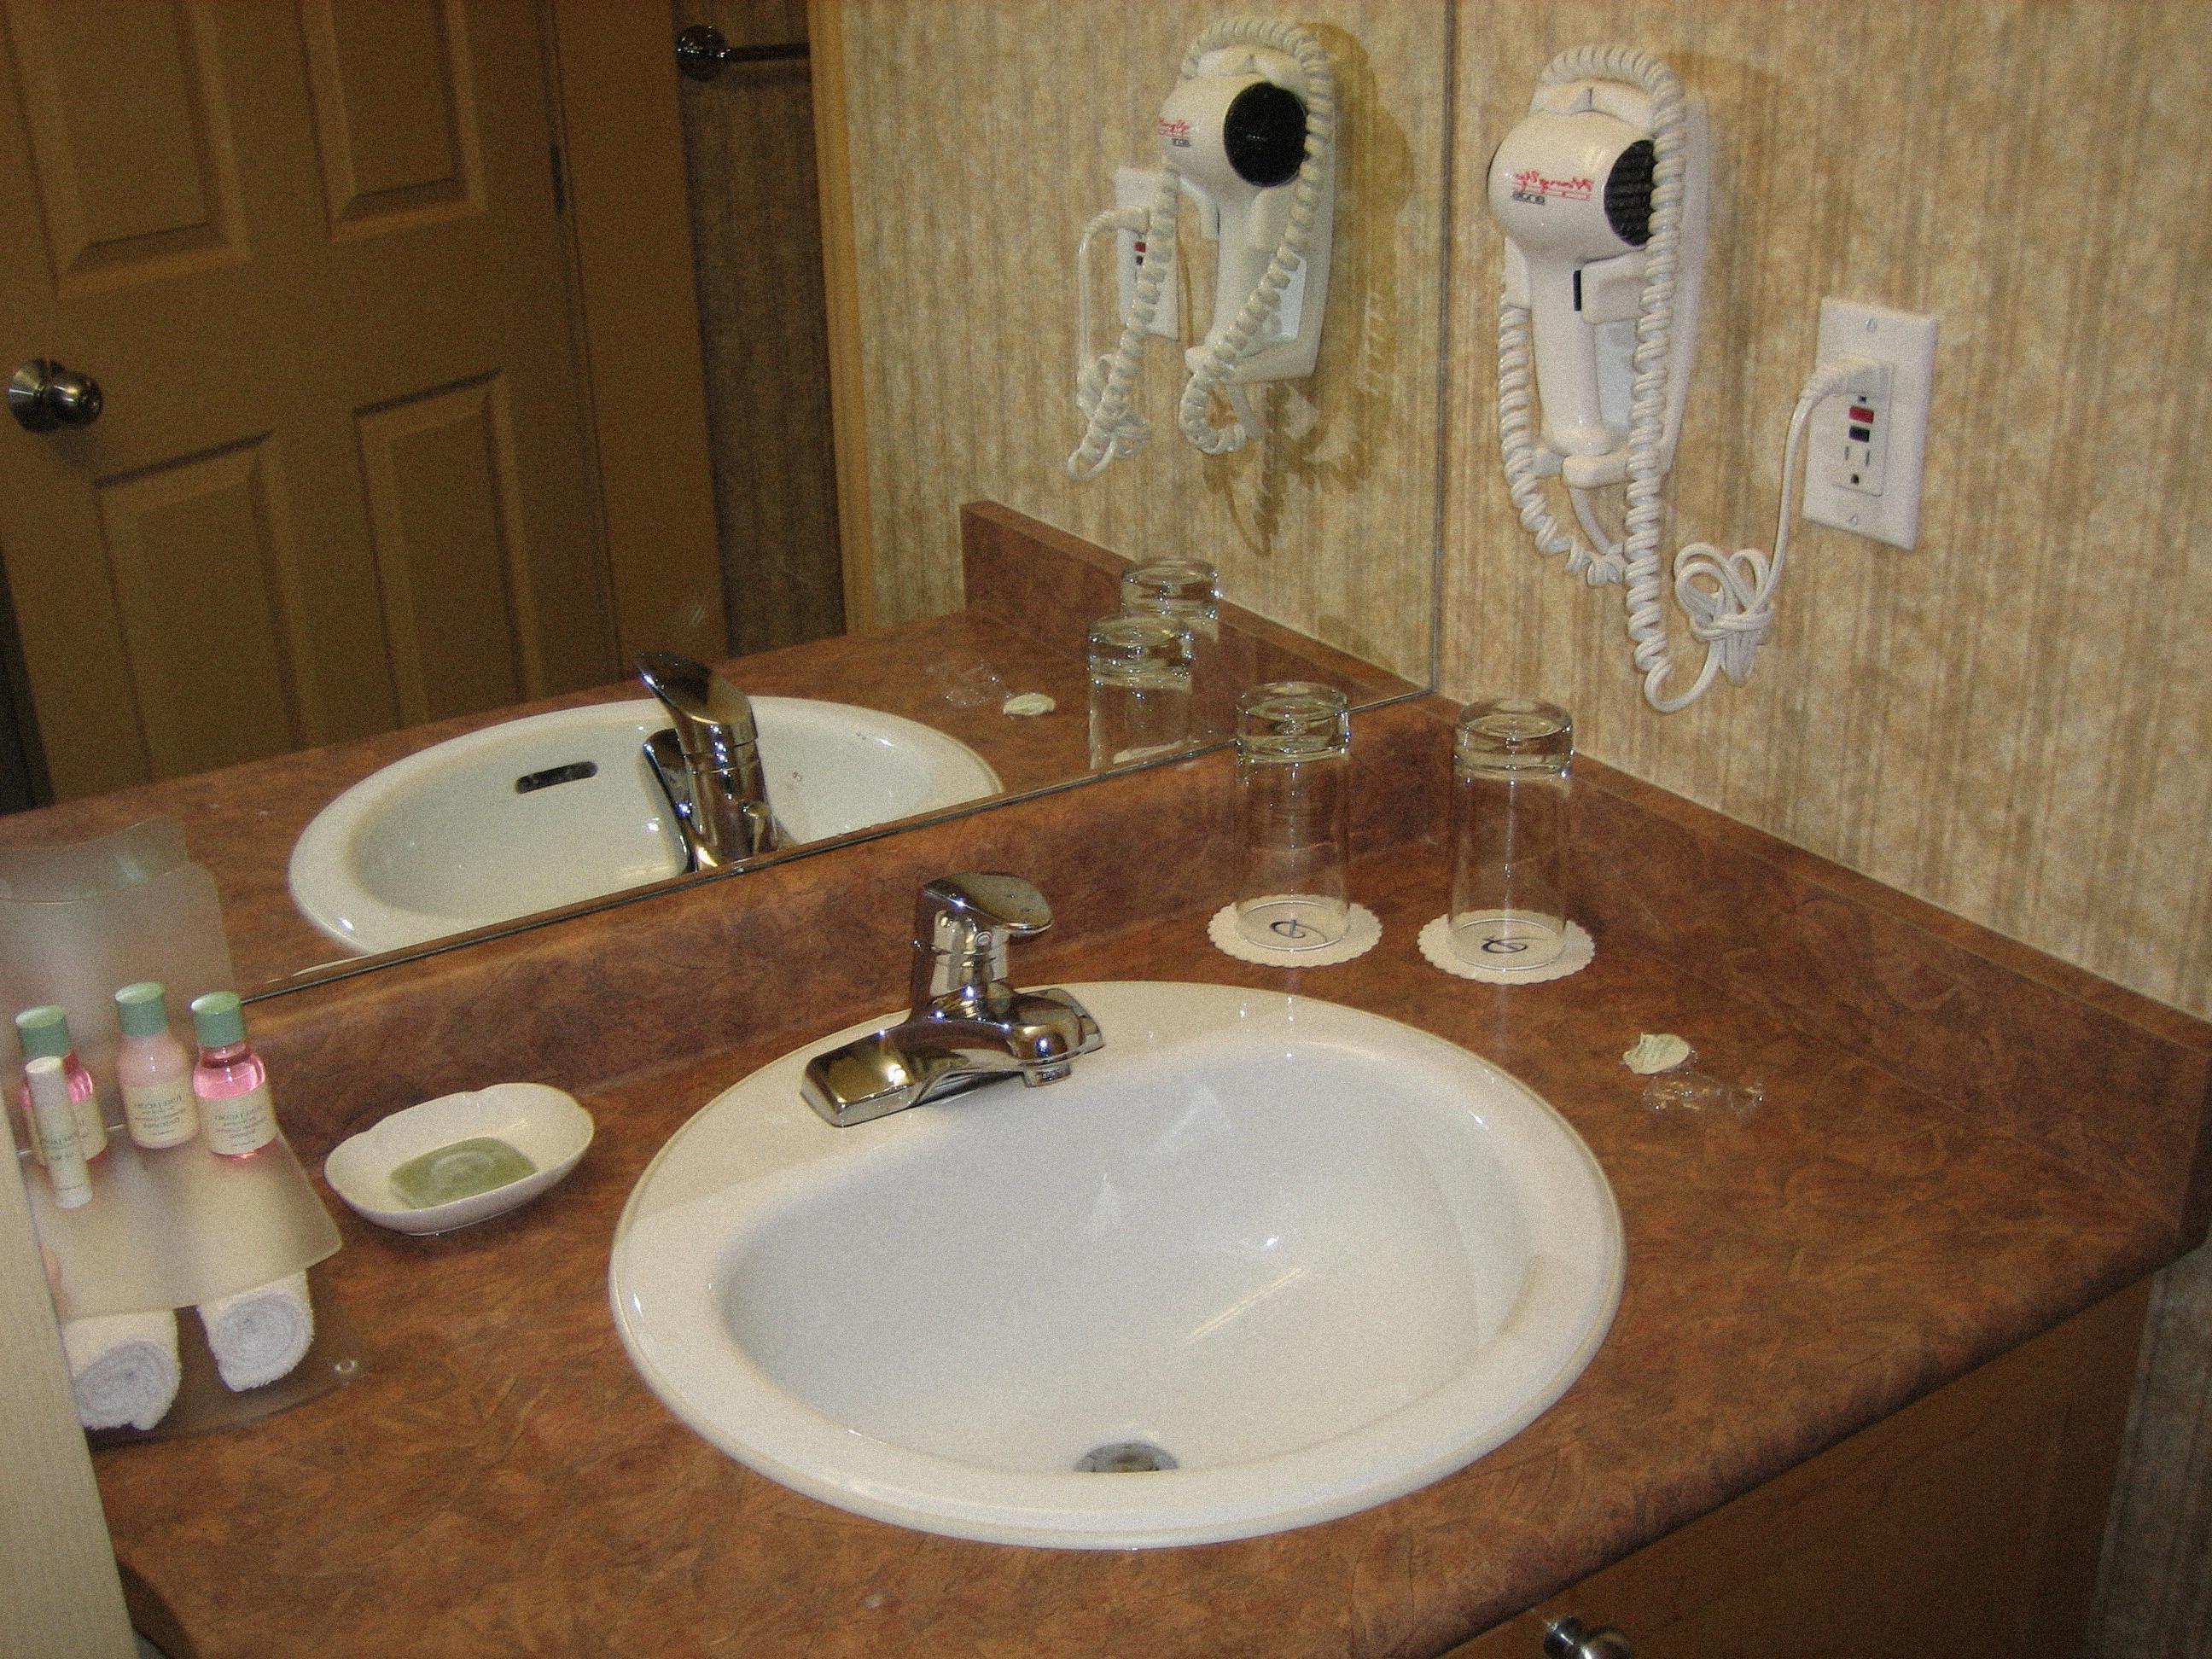Lavamanos: (594, 873, 1700, 1500)
